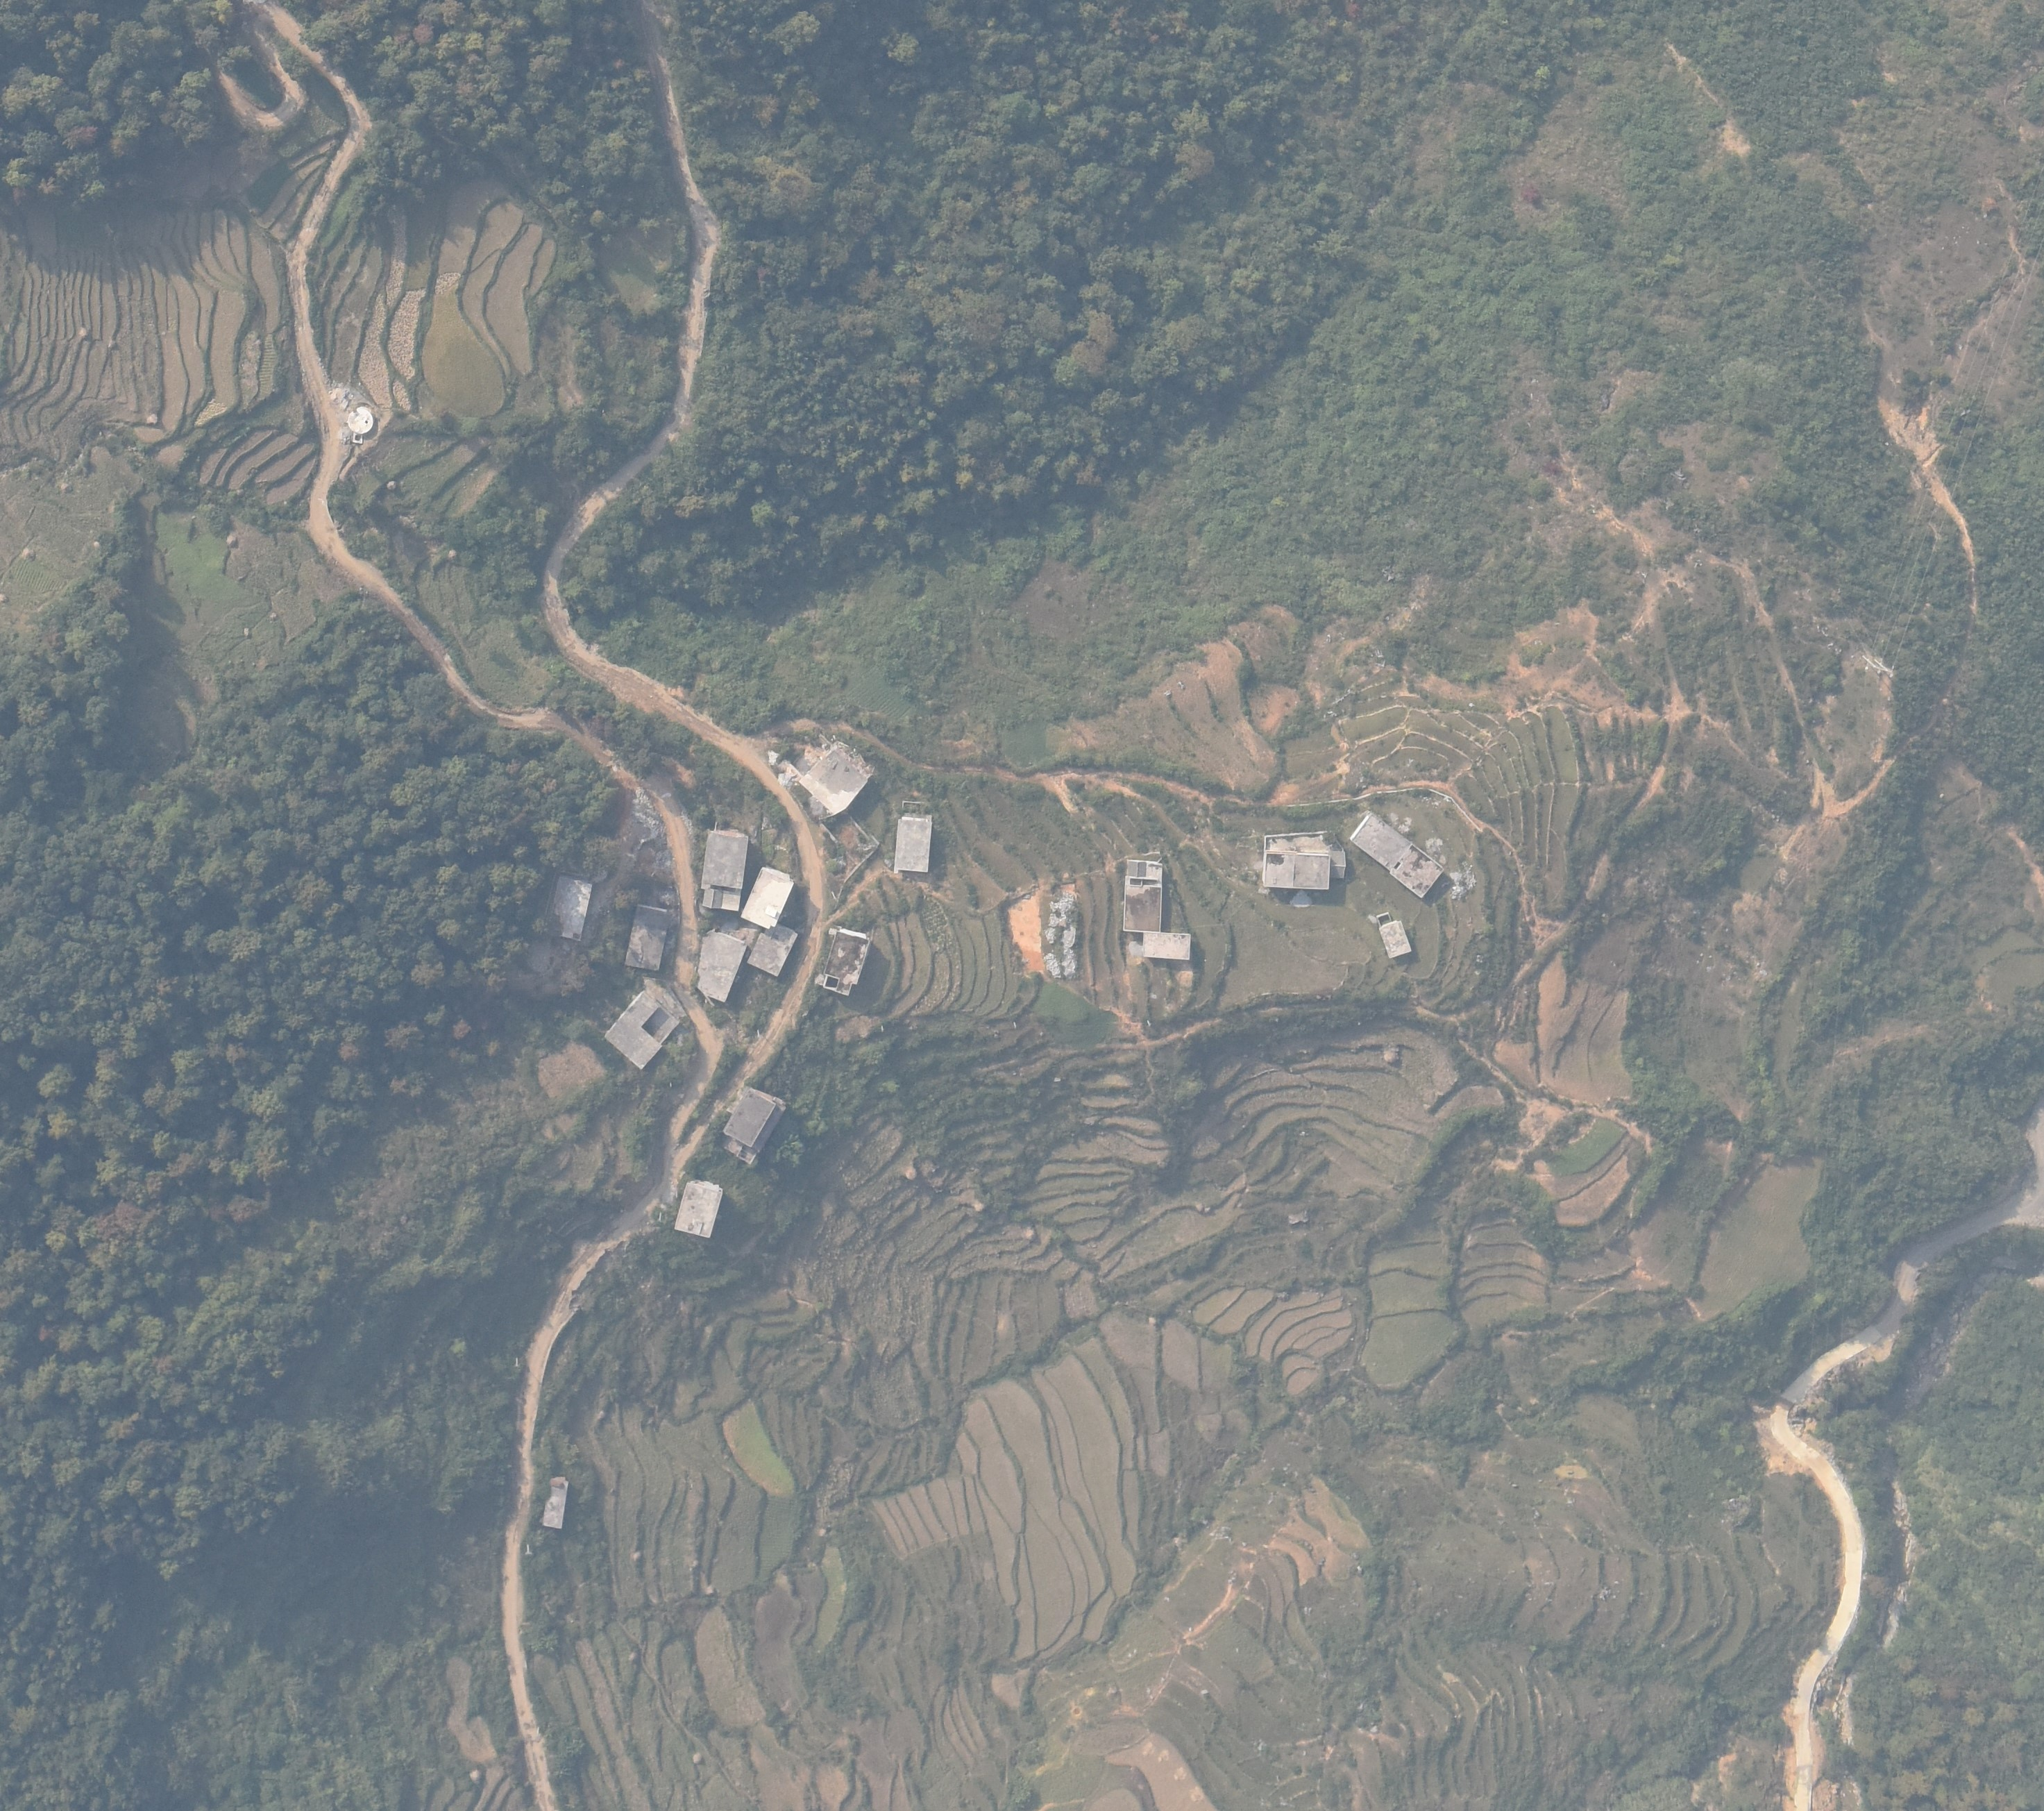building: (1351, 813, 1444, 900), (605, 991, 681, 1069), (722, 1088, 790, 1165), (797, 746, 869, 816), (1262, 836, 1345, 886), (701, 829, 749, 910), (697, 928, 747, 1004), (539, 870, 592, 942), (740, 867, 795, 931), (822, 927, 871, 995), (625, 904, 668, 971), (1124, 859, 1163, 932), (674, 1180, 723, 1238), (748, 925, 798, 979), (893, 812, 929, 877), (1377, 912, 1412, 959), (541, 1476, 568, 1529), (1142, 931, 1191, 961)
cable-tower: (1861, 655, 1893, 676), (1147, 1020, 1152, 1027), (757, 1029, 760, 1038), (881, 1025, 884, 1033), (1013, 1022, 1017, 1030)
well: (348, 407, 374, 435)
